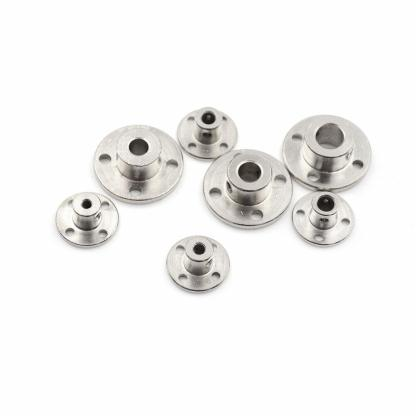FOD: (198, 144, 298, 231), (90, 118, 187, 206), (279, 110, 374, 192), (289, 185, 360, 250), (162, 230, 233, 293), (49, 190, 123, 250), (176, 100, 240, 160)
